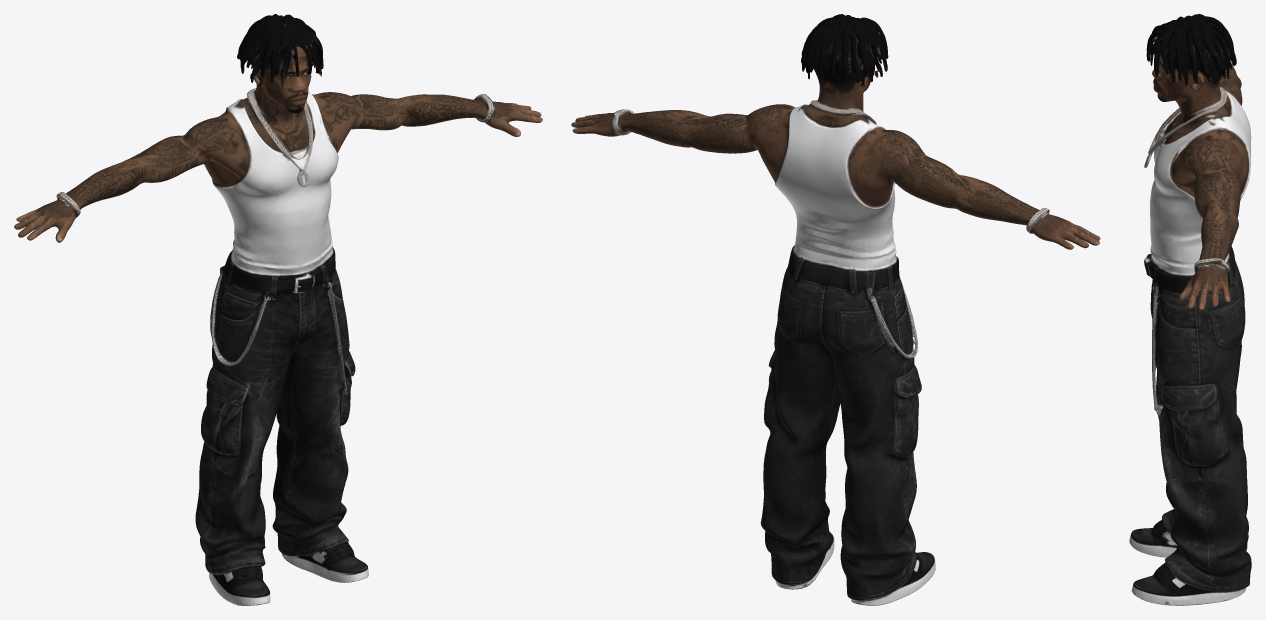
Rendered from Meshy_AI_T_Pose_Urban_Model_20261028_texture.fbx.
The picture shows the model from 3 angles, left to right: view 1: azimuth 30°, elevation 25°; view 2: azimuth 150°, elevation 25°; view 3: azimuth 270°, elevation 25°; orthographic projection.
Parts seen in each view (by area): view 1: Mesh_0; view 2: Mesh_0; view 3: Mesh_0.
Part boxes in pixels (x1=…): Mesh_0: x1=14, y1=14, x2=542, y2=605; Mesh_0: x1=571, y1=14, x2=1100, y2=605; Mesh_0: x1=1129, y1=14, x2=1251, y2=605.
Size of the model in its own units: 185 by 190 by 37.75.
1 material, 1 textured.
